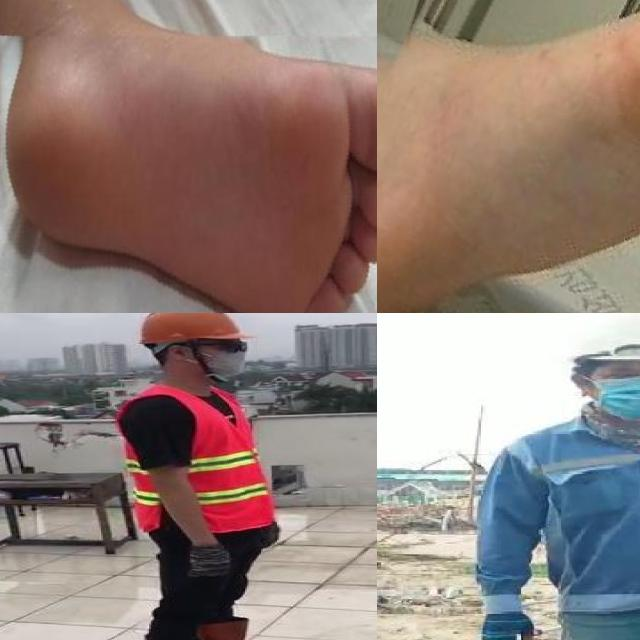Barefoots: (0, 38, 377, 313), (377, 0, 640, 313)
boots: (195, 620, 294, 640)
face_mask: (584, 362, 640, 420), (196, 338, 250, 376)
glasses: (209, 339, 253, 357)
hand_glove: (474, 609, 543, 640), (184, 544, 237, 582)
head_helmet: (129, 313, 253, 349)
person: (112, 313, 301, 640), (478, 329, 640, 640)
vest: (119, 382, 277, 532)
